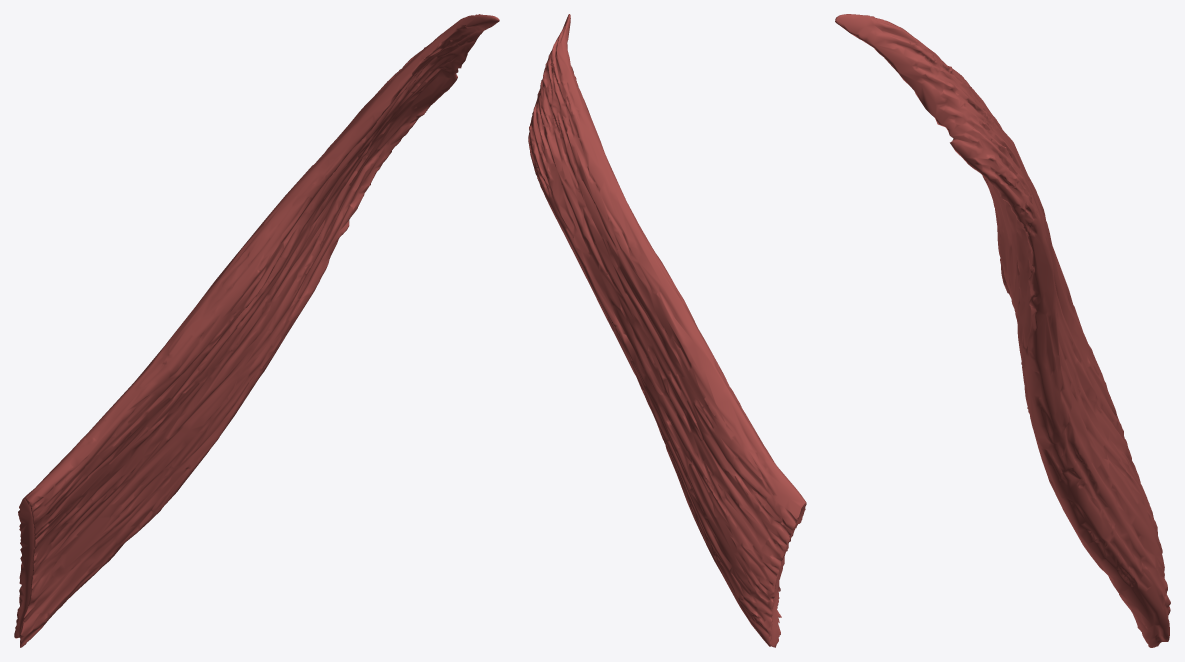
The model's file is FMA13383.glb.
The picture shows the model from 3 angles, left to right: view 1: azimuth 30°, elevation 25°; view 2: azimuth 150°, elevation 25°; view 3: azimuth 270°, elevation 25°; orthographic projection. The views are drawn at different scales.
Parts seen in each view (by area): view 1: FMA13383; view 2: FMA13383; view 3: FMA13383.
Boxes of the visible parts, left/top/right/bottom form: FMA13383: left=14, top=14, right=499, bottom=647; FMA13383: left=528, top=14, right=806, bottom=647; FMA13383: left=835, top=14, right=1170, bottom=647.
Bounding box in the file's own units: 0.0633 × 0.0978 × 0.0335.
